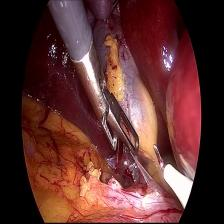Grasper: (74, 38, 145, 165)
Hook: (151, 140, 193, 212)
